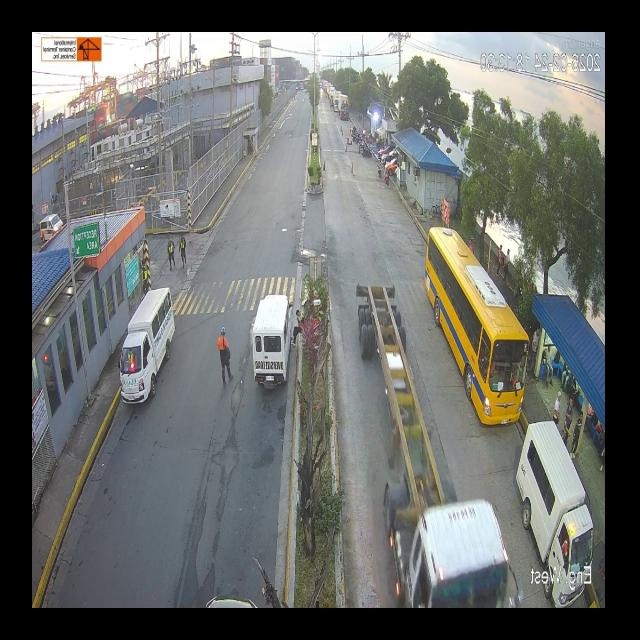bus: (109, 221, 531, 444)
car: (509, 428, 583, 562), (117, 290, 179, 410), (248, 294, 292, 404)
truck: (116, 283, 404, 606), (339, 94, 349, 123)
